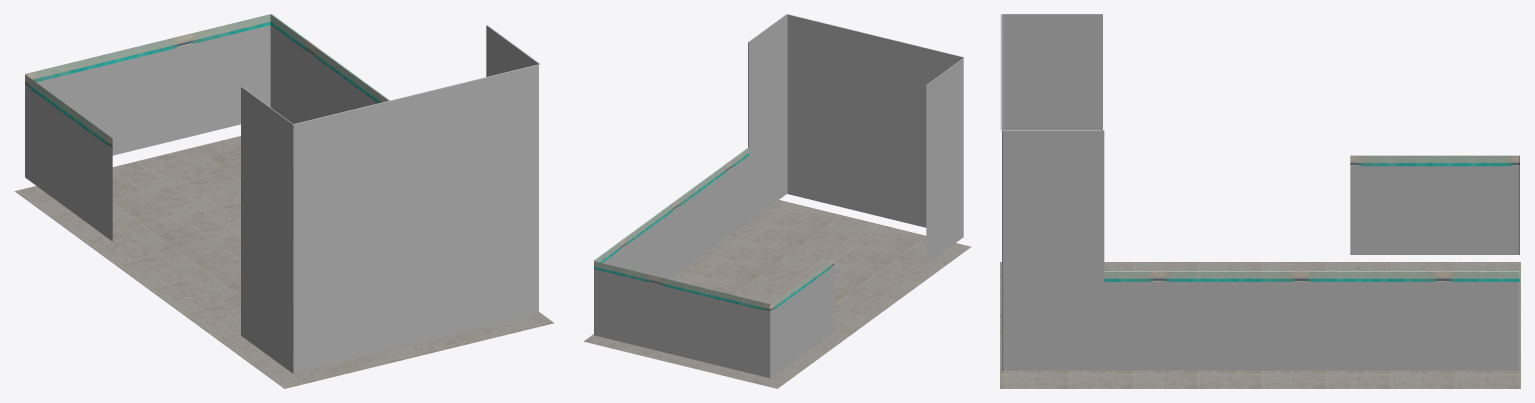
File: SM_BathDecor_A1.FBX
The picture shows the model from 3 angles, left to right: view 1: azimuth 30°, elevation 25°; view 2: azimuth 150°, elevation 25°; view 3: azimuth 270°, elevation 25°; orthographic projection. The views are drawn at different scales.
Visible parts, largest first — view 1: SM_BathDecor_A; view 2: SM_BathDecor_A; view 3: SM_BathDecor_A.
Boxes of the visible parts, x1,y1,x2,y2 form: SM_BathDecor_A: (14,14,554,388); SM_BathDecor_A: (584,14,971,388); SM_BathDecor_A: (1000,14,1520,388).
Size of the model in its own units: 264 by 458 by 245.
